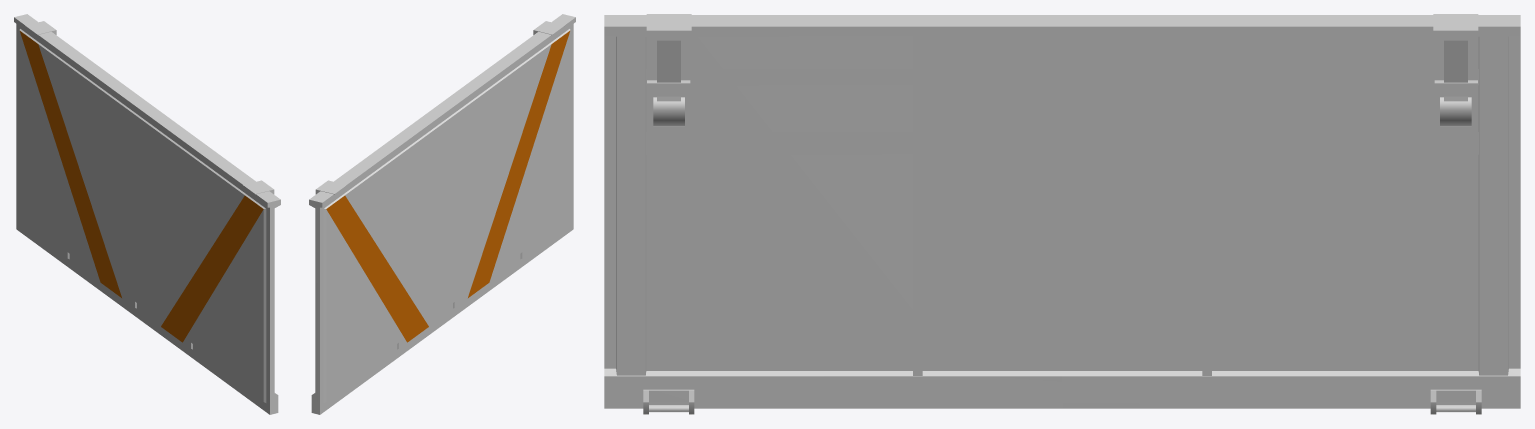
The model's file is SM_H_Customiz_FoldDoor_01A_ATLAS.fbx.
The picture shows the model from 3 angles, left to right: view 1: azimuth 30°, elevation 25°; view 2: azimuth 150°, elevation 25°; view 3: azimuth 270°, elevation 25°; orthographic projection. The views are drawn at different scales.
Parts seen in each view (by area): view 1: SM_H_Customiz_FoldDoor_01A_ATLAS; view 2: SM_H_Customiz_FoldDoor_01A_ATLAS; view 3: SM_H_Customiz_FoldDoor_01A_ATLAS.
Boxes of the visible parts, x1,y1,x2,y2 form: SM_H_Customiz_FoldDoor_01A_ATLAS: [14, 14, 280, 414]; SM_H_Customiz_FoldDoor_01A_ATLAS: [309, 14, 575, 414]; SM_H_Customiz_FoldDoor_01A_ATLAS: [604, 14, 1520, 414].
Bounding box in the file's own units: 46.93 × 1090 × 514.
